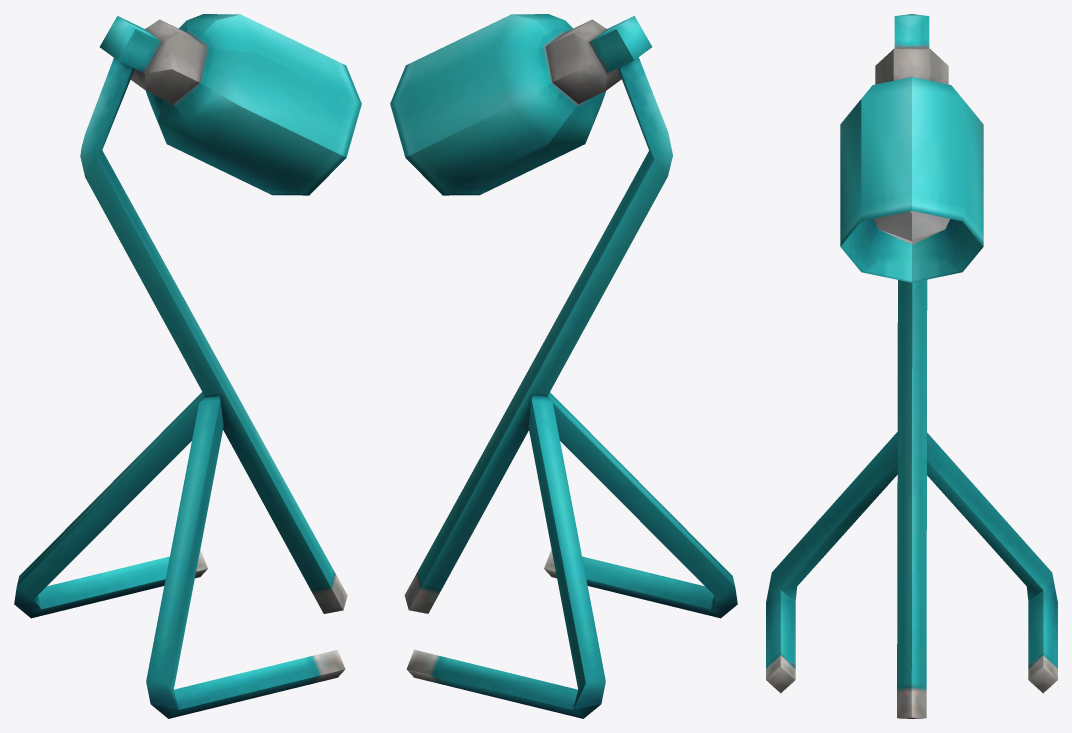
The model's file is the_modern_desk_lamp.glb.
The picture shows the model from 3 angles, left to right: view 1: azimuth 30°, elevation 25°; view 2: azimuth 150°, elevation 25°; view 3: azimuth 270°, elevation 25°; orthographic projection. The views are drawn at different scales.
Visible parts, largest first — view 1: TinyLiving_TheModernDeskLamp; view 2: TinyLiving_TheModernDeskLamp; view 3: TinyLiving_TheModernDeskLamp.
Boxes of the visible parts, x1,y1,x2,y2 form: TinyLiving_TheModernDeskLamp: (14,14,361,718); TinyLiving_TheModernDeskLamp: (390,14,737,718); TinyLiving_TheModernDeskLamp: (766,14,1057,718).
Size of the model in its own units: 0.2454 by 0.5601 by 0.2426.
Materials: 1 (1 with a texture image).
